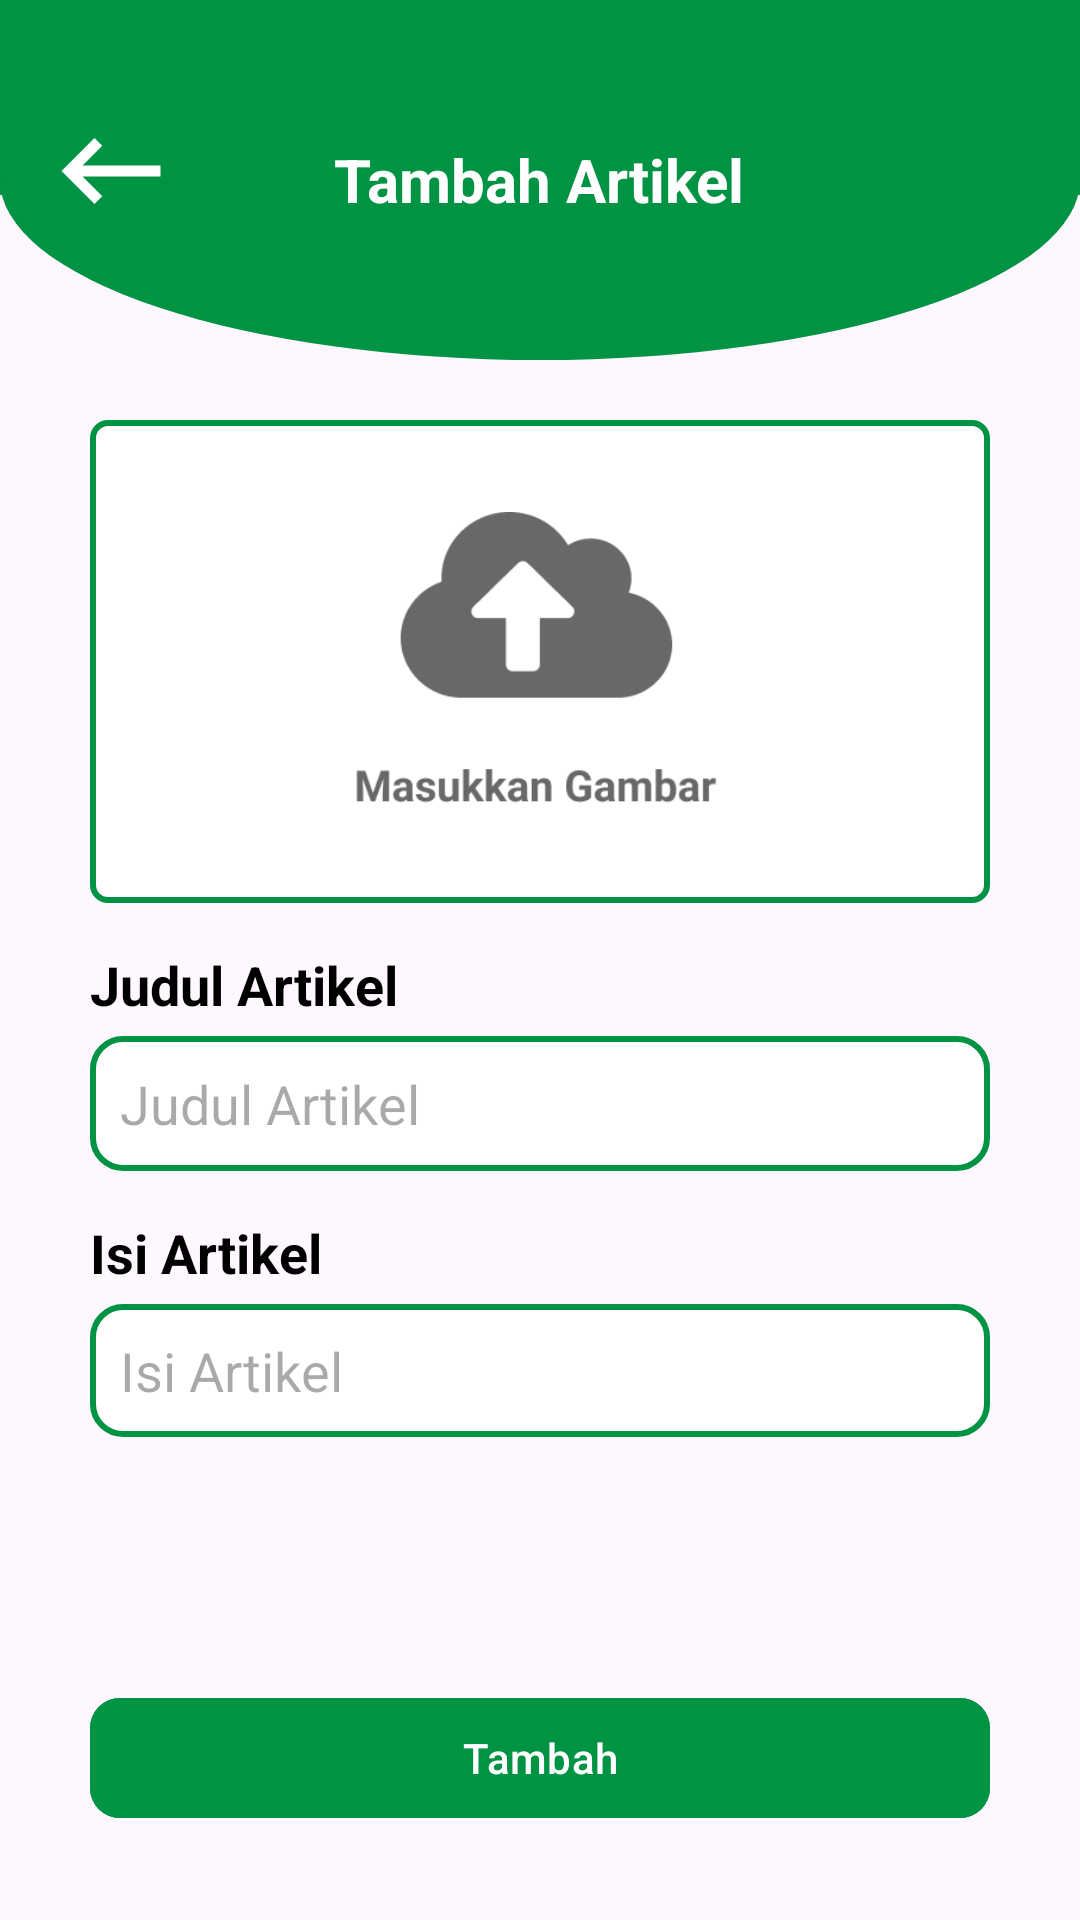

Where to tap for icons on this 1080×1920 app screen, as point (x, y):
keyboard backspace: point (111, 171)
